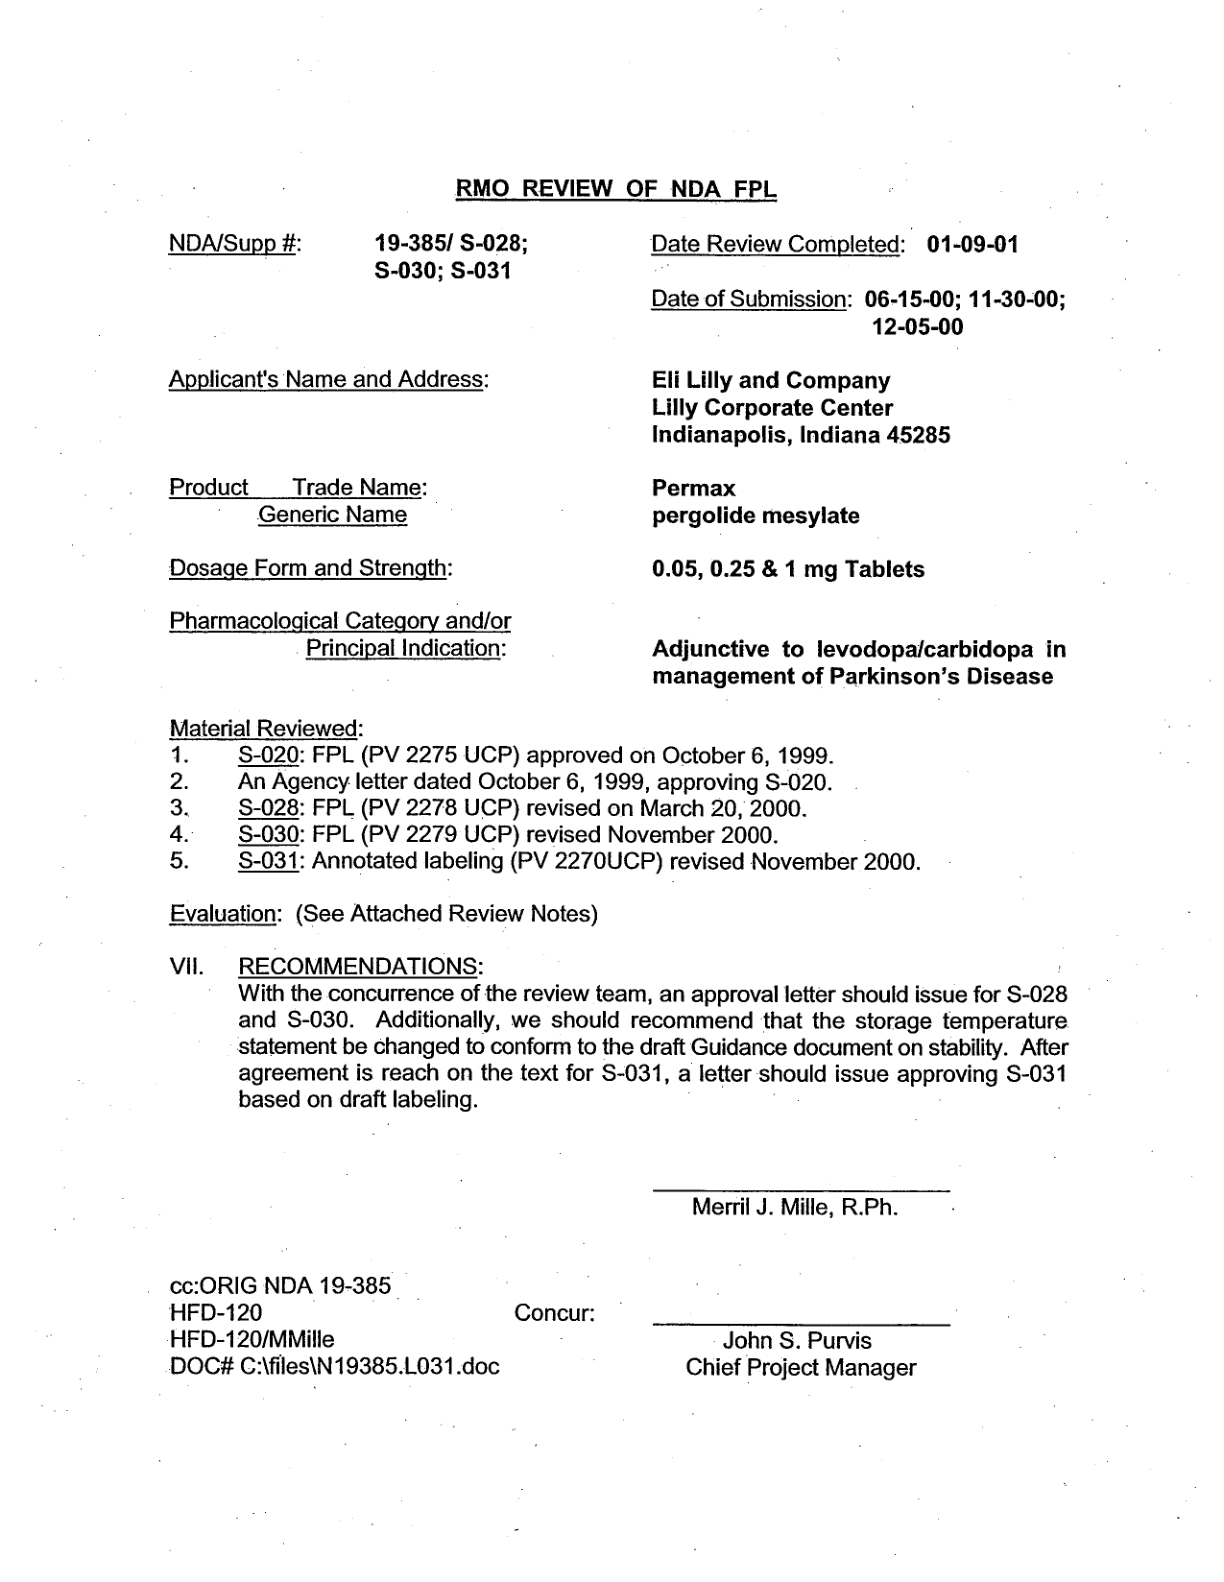nolines: (164, 229, 1069, 690), (170, 741, 923, 874)
